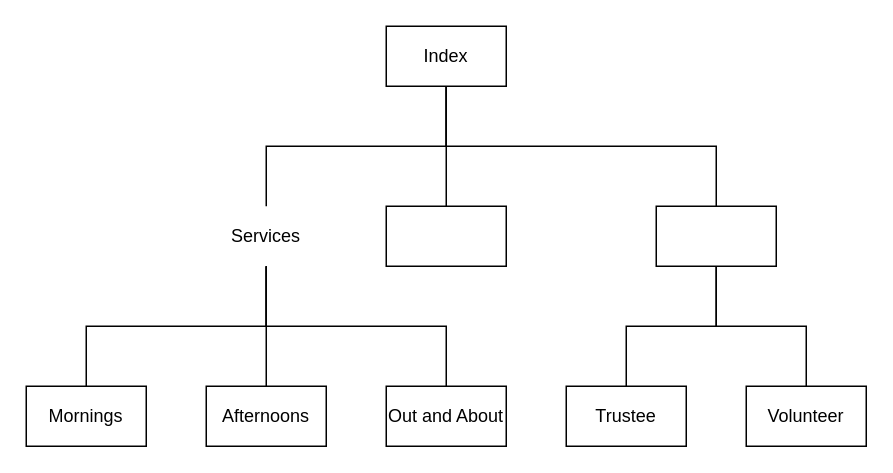
Some shapes in this 893 by 473 pixel diagram are drawn without their labels. The box of each missing label's shape, as (x1, y1, x2, y2) in pixels:
Careers: (655, 205, 776, 266)
Contact: (385, 205, 506, 266)
